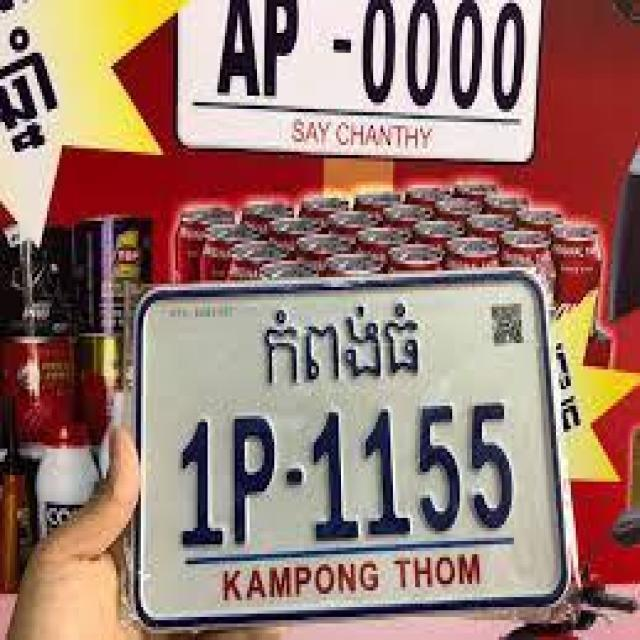Kampong_Thom: (260, 298, 424, 389)
